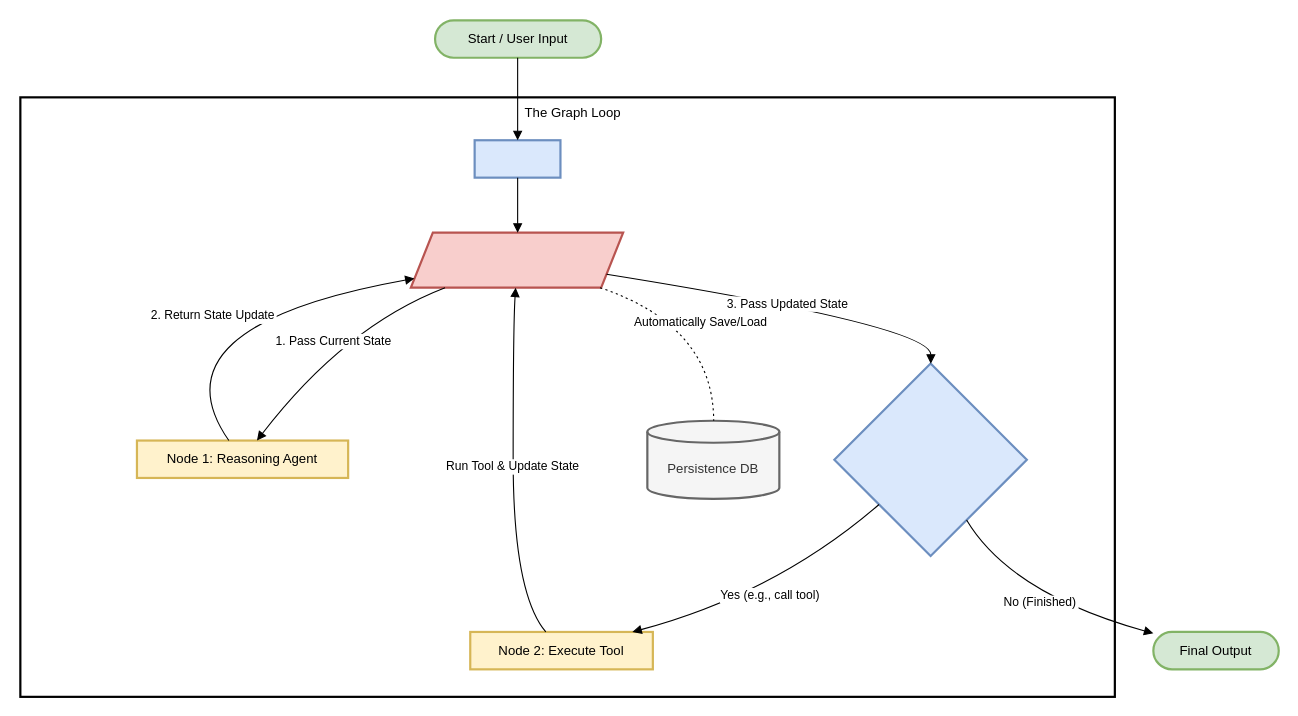
The diagram is 1298 pixels wide and 716 high, and some of its shapes have lost their labels. Here are the shapes that lost their labels. From the top down, the centre of each, then its label:
At pixel 517 158: "Initialize".
At pixel 516 259: "Shared State Object Holds History, Data".
At pixel 930 459: "Need more steps?".
